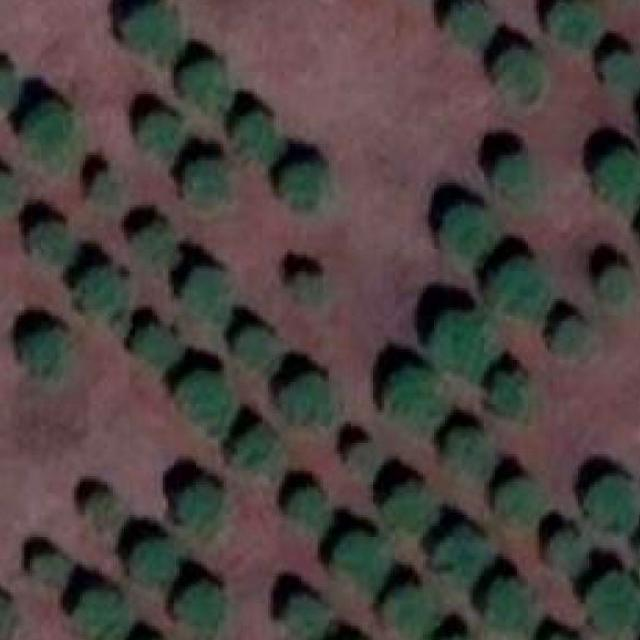Tree: (482, 258, 554, 328), (423, 310, 484, 380), (587, 564, 640, 636), (388, 368, 446, 432), (22, 105, 72, 175), (166, 584, 224, 640), (442, 205, 495, 266), (126, 6, 180, 64), (282, 369, 338, 424), (589, 474, 640, 533), (332, 532, 391, 582), (594, 146, 640, 210), (486, 476, 539, 529), (487, 579, 537, 635), (498, 48, 546, 106), (390, 478, 440, 532), (182, 268, 232, 321), (445, 423, 493, 476), (233, 428, 280, 482), (382, 587, 430, 637), (183, 371, 230, 421), (543, 319, 590, 369), (83, 268, 127, 321), (133, 540, 183, 585), (235, 114, 279, 164), (183, 482, 227, 532), (545, 532, 589, 582), (138, 114, 183, 162), (445, 3, 490, 51), (183, 160, 230, 205), (487, 371, 532, 418), (24, 330, 72, 374), (282, 164, 324, 214), (187, 61, 229, 111), (553, 0, 598, 45), (442, 529, 484, 577), (602, 50, 640, 103), (80, 592, 122, 637), (600, 264, 639, 311), (282, 598, 324, 640), (495, 155, 534, 199), (140, 227, 180, 269), (135, 324, 177, 364), (30, 218, 69, 260), (229, 327, 268, 363), (91, 493, 122, 535), (293, 277, 330, 310), (290, 487, 323, 524), (33, 556, 72, 587), (346, 441, 378, 474), (91, 168, 116, 200), (0, 66, 19, 108), (0, 175, 22, 211), (0, 598, 19, 637)
